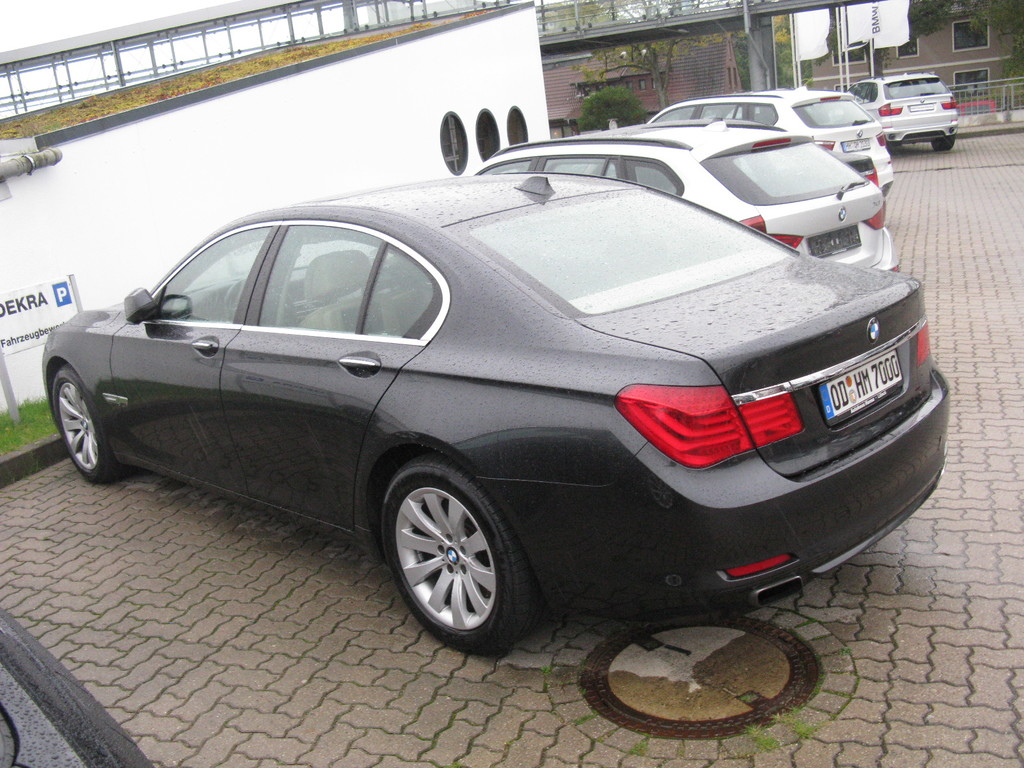Car: (42, 97, 923, 680), (467, 119, 901, 280), (641, 80, 892, 190), (842, 71, 960, 156)
